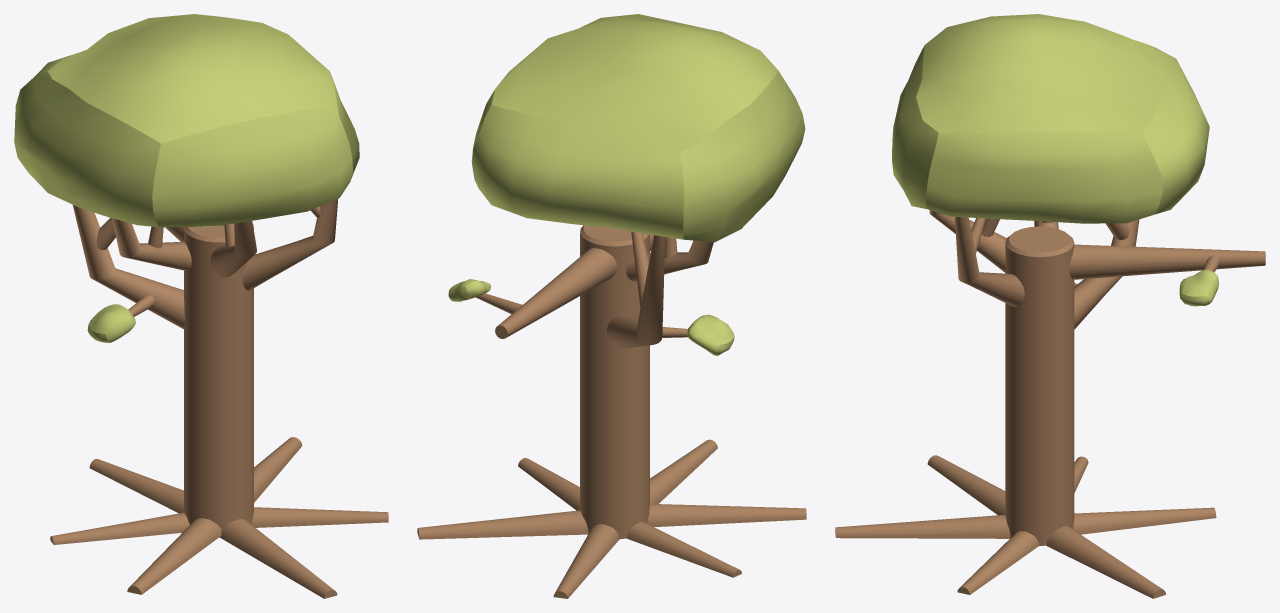
File: Climable tree.fbx
3 views of the same model, side by side, from view 1: azimuth 30°, elevation 25°; view 2: azimuth 150°, elevation 25°; view 3: azimuth 270°, elevation 25° (orthographic). The views are drawn at different scales.
Visible parts, largest first — view 1: Leaves_main, Tree_Body, Branch06, Branch04, Root01, Root03, Root02, Root05, Branch05, Root04, Branch03, leaves_01 (+1 smaller); view 2: Leaves_main, Tree_Body, Walkable_Branch, Root06, Branch06, Root03, Root04, Root05, Root01, leaves_01, Root02, Branch05 (+2 smaller); view 3: Leaves_main, Tree_Body, Walkable_Branch, Root01, Root06, Branch04, Root04, Root02, Root03, Branch06, leaves_03, Branch03.
Boxes of the visible parts, <box> form: Leaves_main: <box>14,14,359,227</box>; Tree_Body: <box>184,224,253,537</box>; Branch06: <box>72,205,184,329</box>; Branch04: <box>242,199,337,290</box>; Root01: <box>219,519,337,598</box>; Root03: <box>127,518,221,594</box>; Root02: <box>252,507,388,527</box>; Root05: <box>50,512,189,544</box>; Branch05: <box>112,218,191,270</box>; Root04: <box>89,459,183,513</box>; Branch03: <box>210,221,256,277</box>; leaves_01: <box>87,304,135,342</box>; Leaves_main: <box>471,14,805,242</box>; Tree_Body: <box>580,225,649,539</box>; Walkable_Branch: <box>495,248,617,338</box>; Root06: <box>417,510,588,539</box>; Branch06: <box>606,235,665,348</box>; Root03: <box>647,504,806,526</box>; Root04: <box>553,524,619,598</box>; Root05: <box>626,522,741,577</box>; Root01: <box>650,439,717,503</box>; leaves_01: <box>687,314,734,355</box>; Root02: <box>518,458,579,510</box>; Branch05: <box>626,240,713,281</box>; Leaves_main: <box>892,14,1209,223</box>; Tree_Body: <box>1005,226,1074,545</box>; Walkable_Branch: <box>1069,244,1265,279</box>; Root01: <box>835,515,1010,538</box>; Root06: <box>1046,526,1165,598</box>; Branch04: <box>954,217,1024,306</box>; Root04: <box>1073,507,1216,534</box>; Root02: <box>957,531,1038,594</box>; Root03: <box>927,455,1005,515</box>; Branch06: <box>1074,219,1139,329</box>; leaves_03: <box>1179,269,1218,306</box>; Branch03: <box>929,210,1006,272</box>.
Size of the model in its own units: 78.13 by 120 by 96.41.
